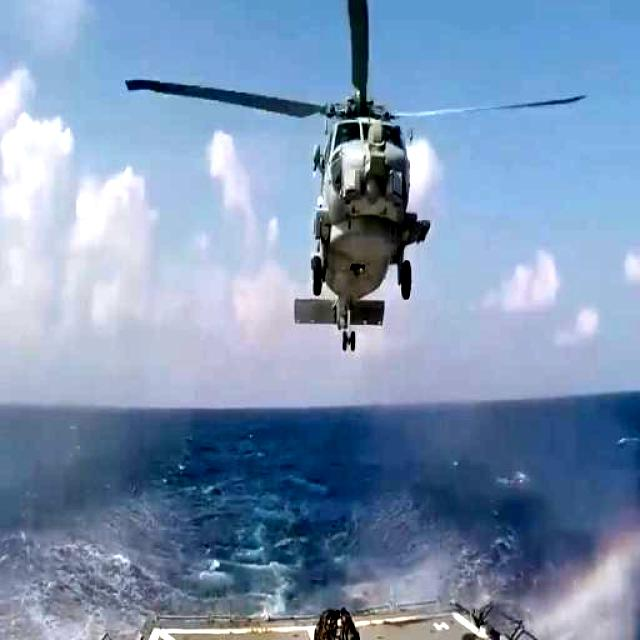drone: (118, 0, 602, 365)
